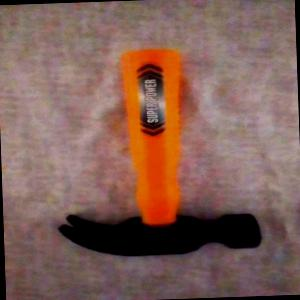martelo: (48, 45, 262, 260)
